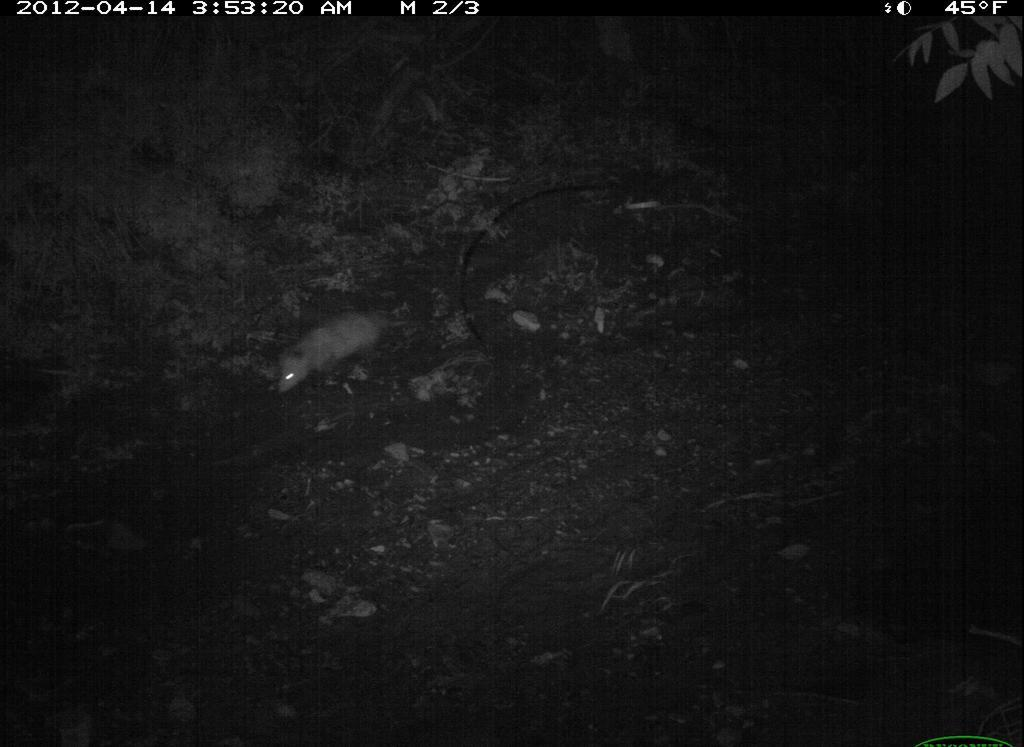opossum: (274, 299, 405, 404)
